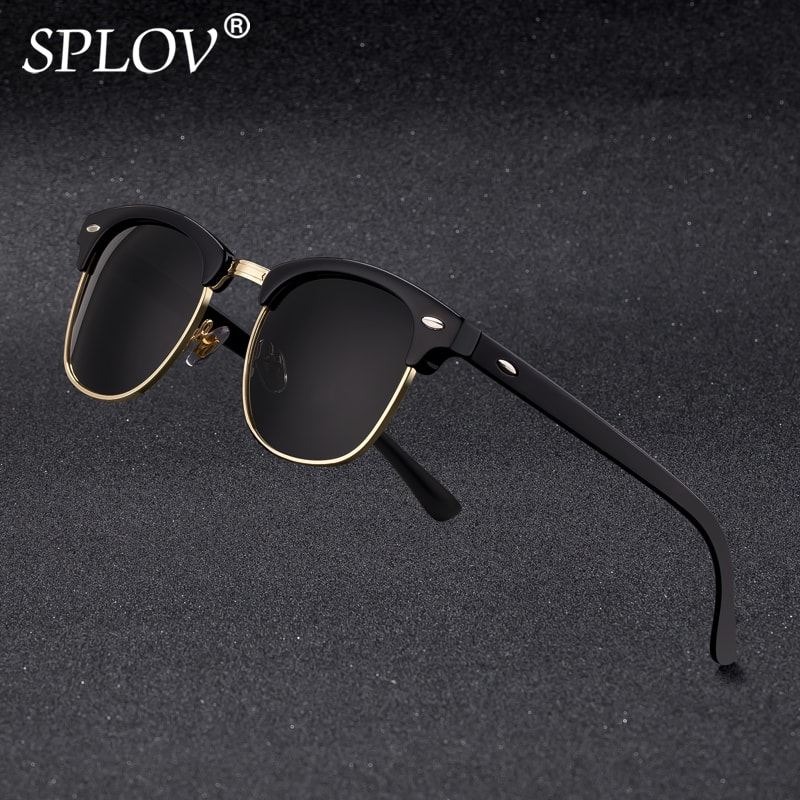sunglasses: (10, 187, 745, 615)
